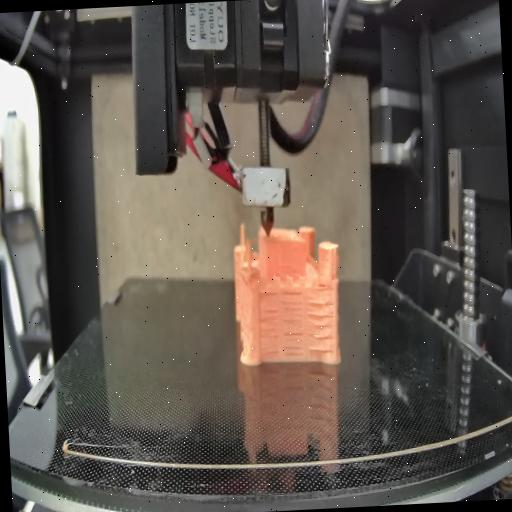cracks: (281, 287, 307, 355), (306, 300, 336, 353), (257, 310, 281, 356), (256, 286, 278, 300), (316, 276, 328, 290)
